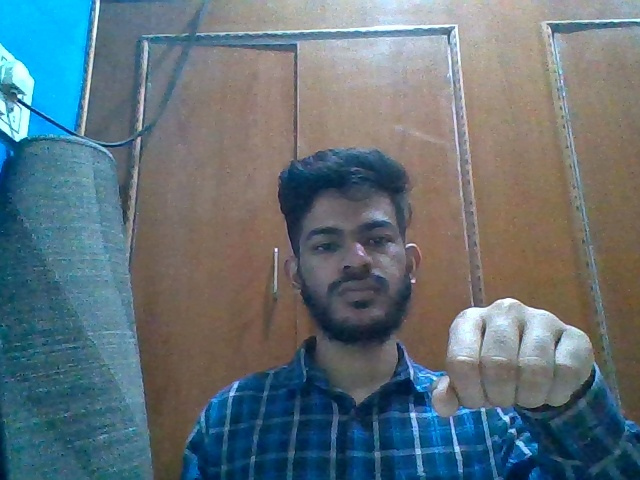yes: (428, 293, 600, 417)
